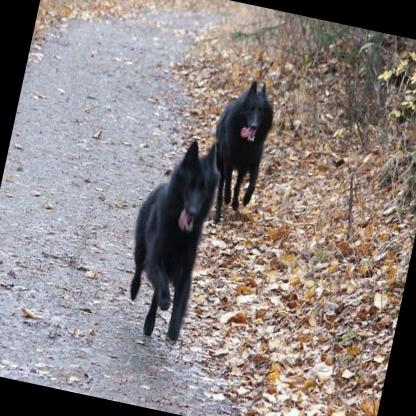groenendael: (110, 128, 224, 350), (192, 64, 289, 233)
